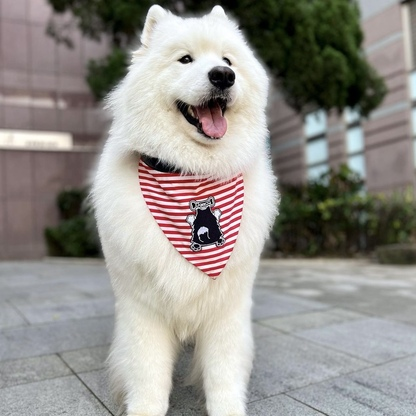samoyed: (82, 1, 286, 416)
